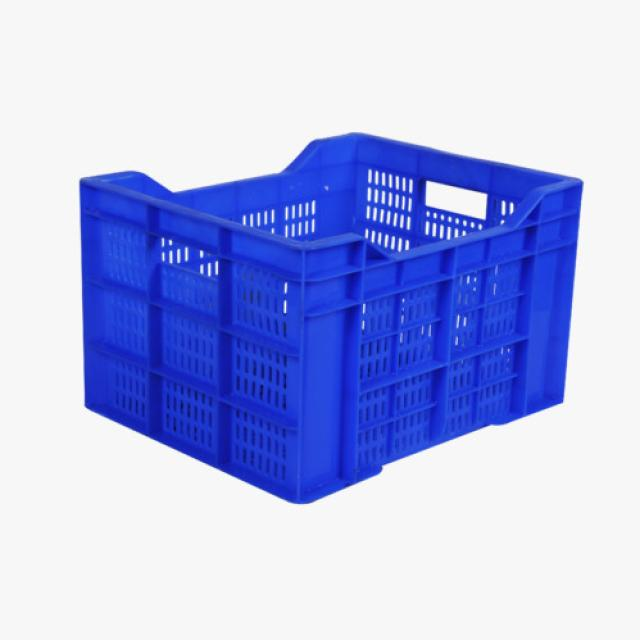basket: (75, 129, 585, 508)
